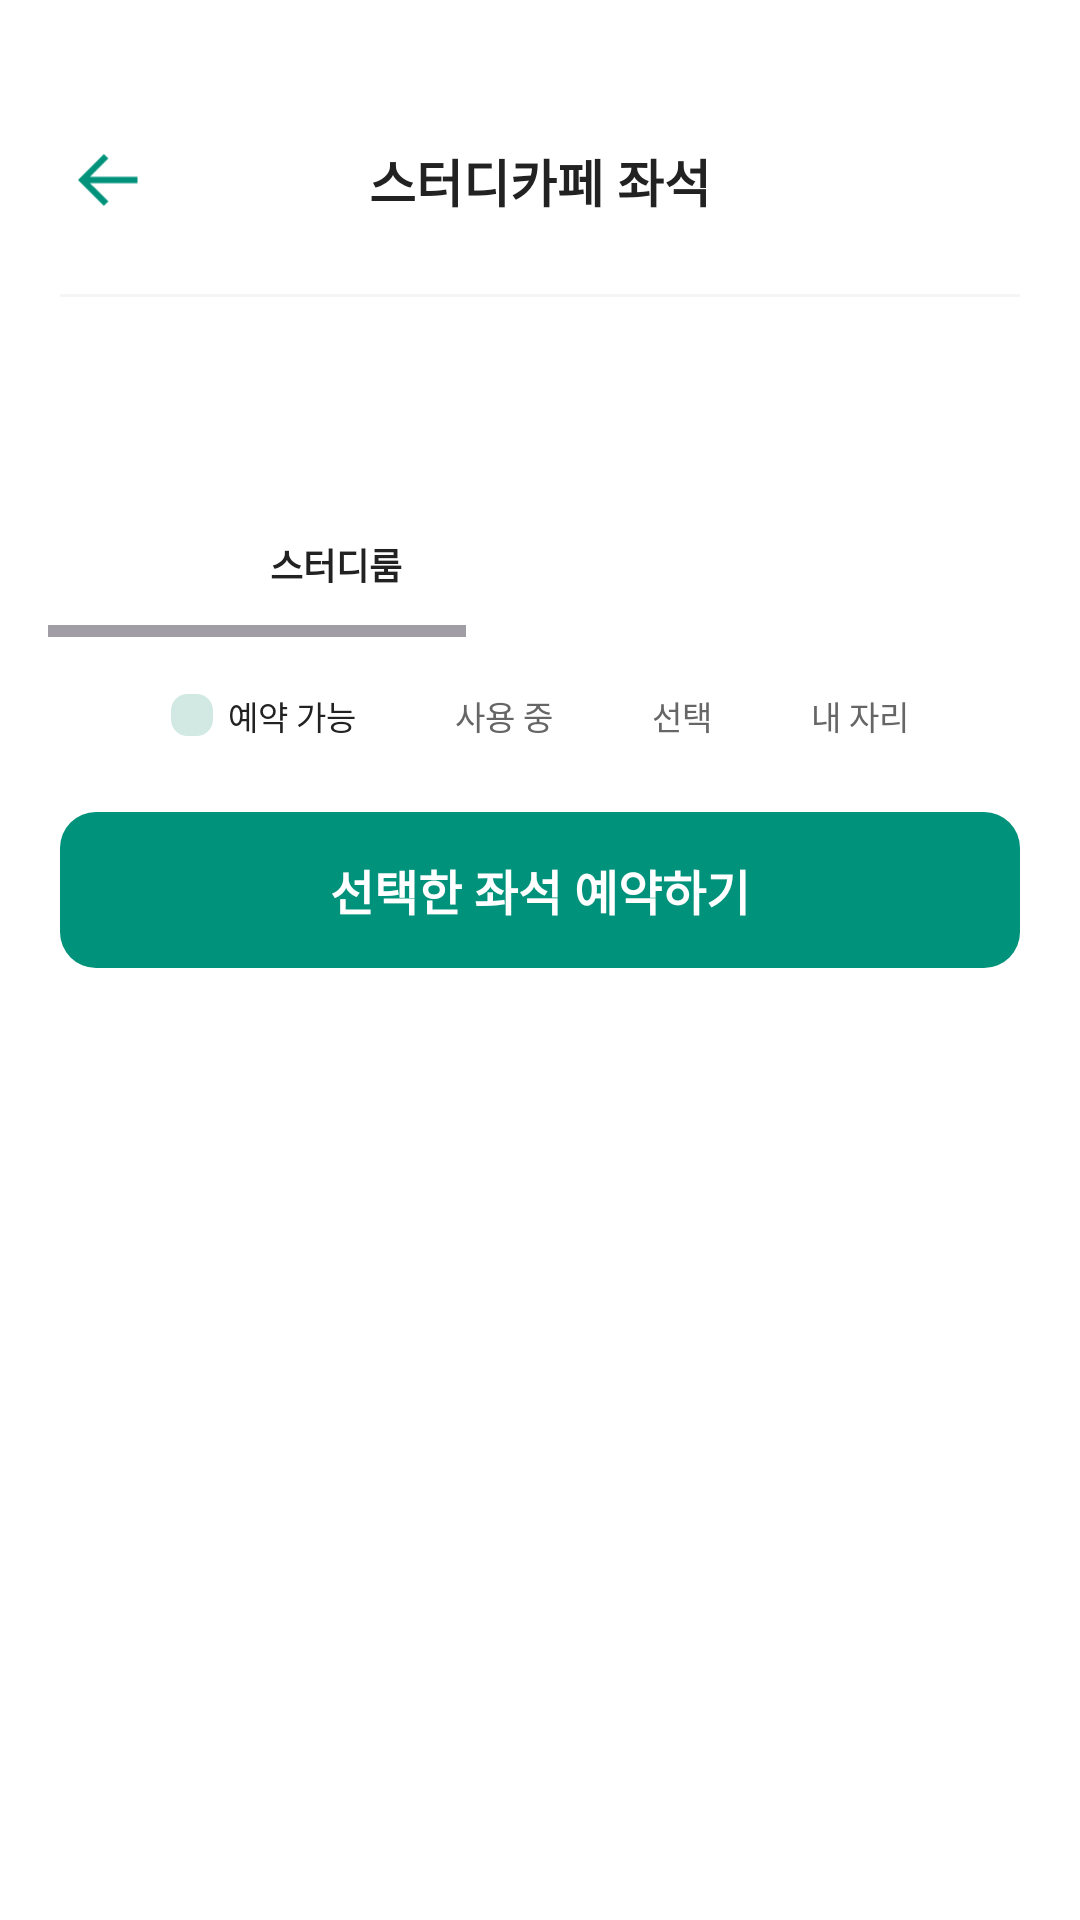

Screen size 1080px×1920px. Icon name, then its box in pixels as [left=x1, top=y1, right=x2, bottom=y2]:
back: [left=78, top=154, right=138, bottom=206]
